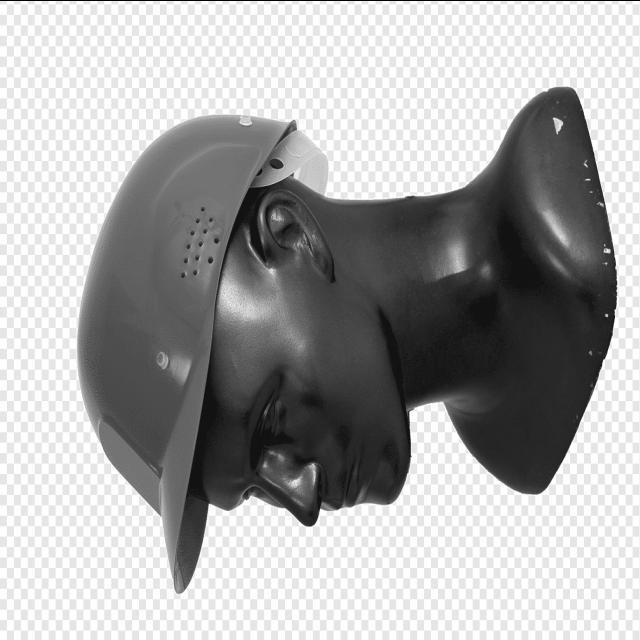safety_helmet: (77, 113, 298, 593)
